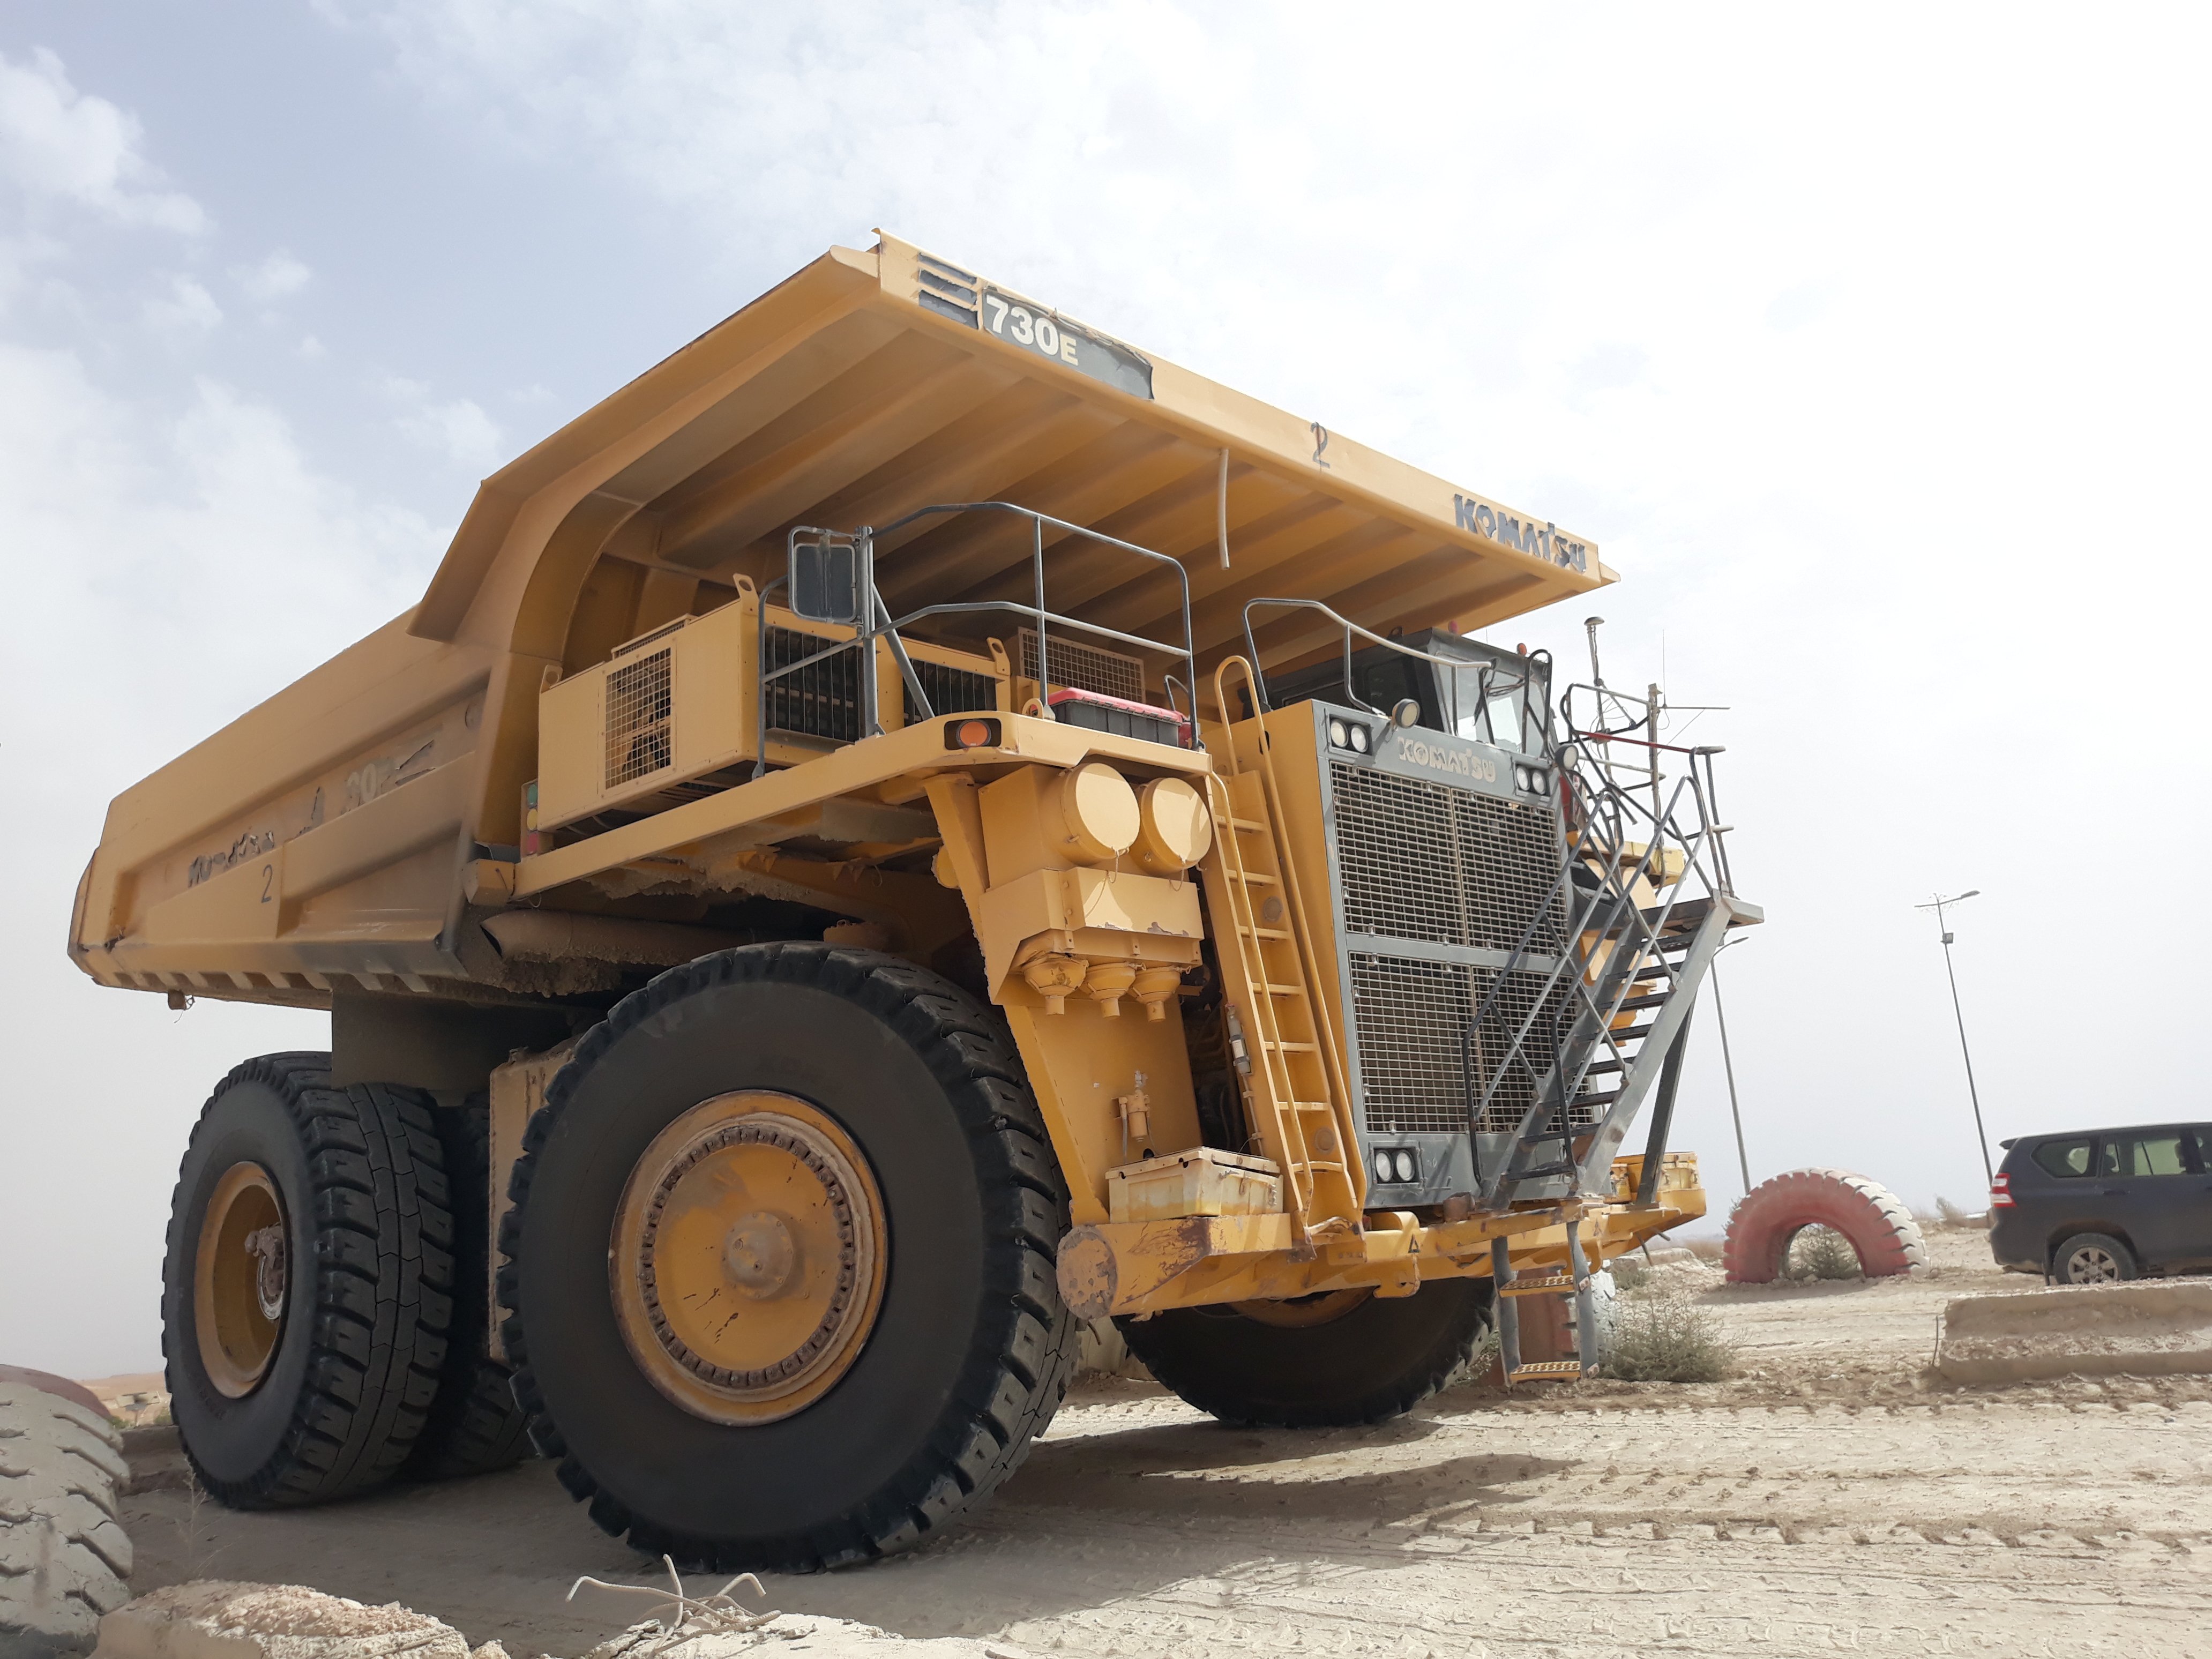camion: (56, 214, 1773, 1579)
car: (1984, 1110, 2212, 1298)
